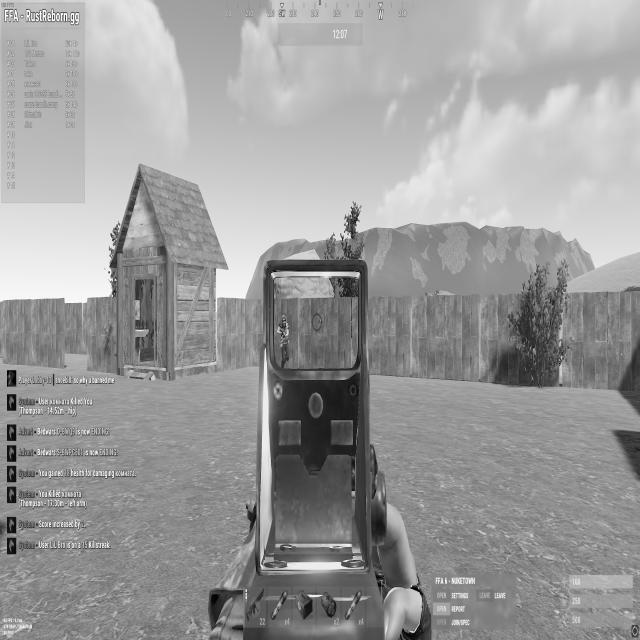Player: (278, 314, 290, 366), (280, 315, 286, 326)
